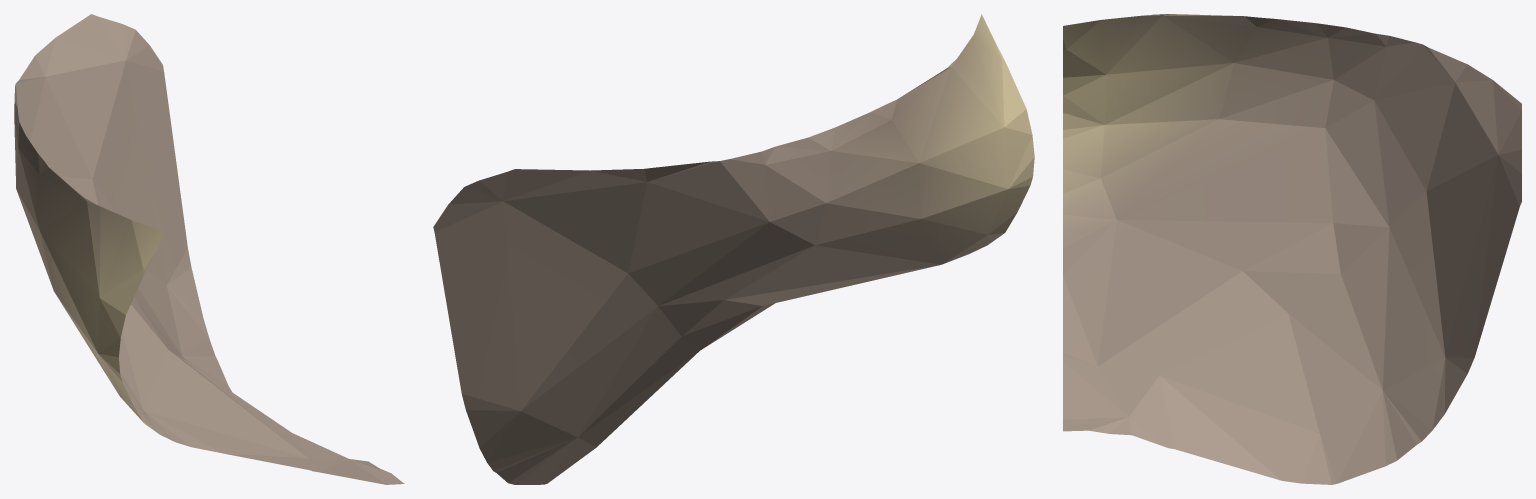
Rendered from bisect-8-1-7.gltf.
3 renders of one model, left to right at view 1: azimuth 30°, elevation 25°; view 2: azimuth 150°, elevation 25°; view 3: azimuth 270°, elevation 25°, orthographic. The views are drawn at different scales.
Parts seen in each view (by area): view 1: bisect-8-1-7; view 2: bisect-8-1-7; view 3: bisect-8-1-7.
Part boxes in pixels (<box>): bisect-8-1-7: <box>14,14,404,484</box>; bisect-8-1-7: <box>433,14,1034,484</box>; bisect-8-1-7: <box>1063,14,1521,484</box>.
Bounding box in the file's own units: 13.65 × 16.74 × 20.
